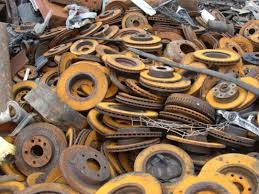metal: (22, 80, 90, 137), (12, 117, 72, 180), (130, 140, 196, 194), (53, 59, 116, 113), (56, 140, 118, 194), (193, 147, 259, 194), (91, 164, 169, 194), (135, 59, 193, 96), (92, 100, 163, 125), (171, 168, 238, 194), (192, 44, 245, 75), (201, 78, 252, 110), (118, 30, 171, 56), (102, 48, 149, 77), (118, 11, 161, 32), (202, 16, 239, 39), (66, 35, 103, 57), (238, 17, 259, 53), (94, 5, 127, 27), (42, 39, 74, 59)
paper: (61, 1, 98, 31)
